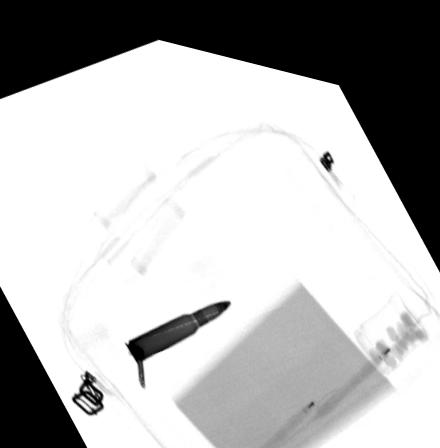Bullet: (122, 288, 232, 356)
